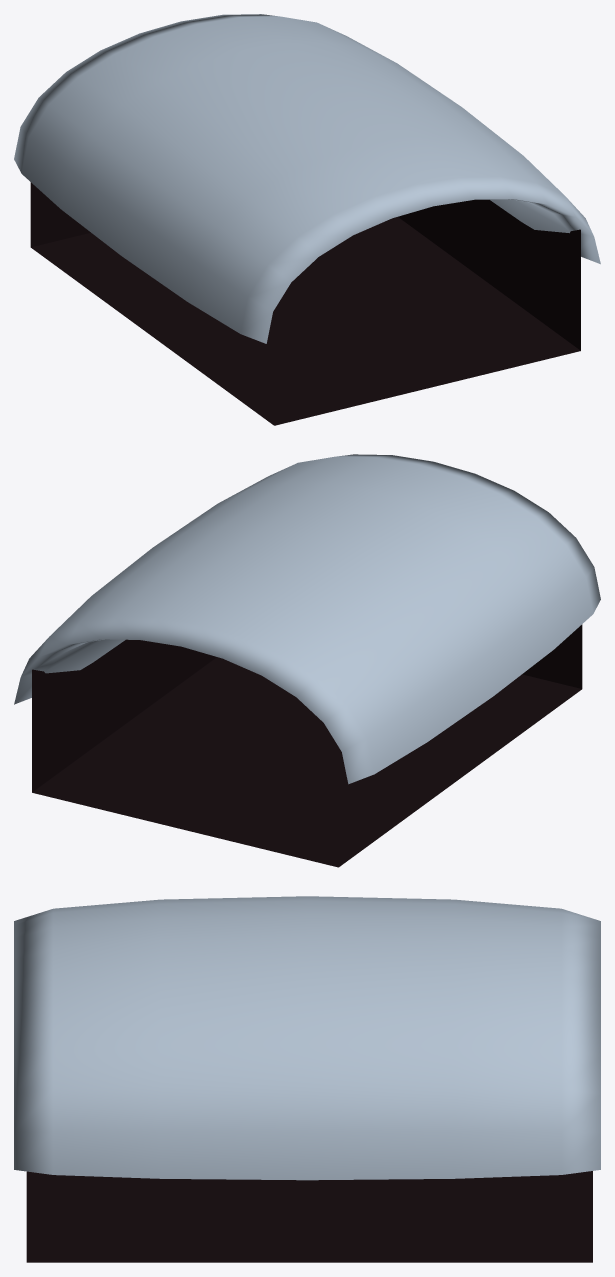
Rendered from SmallWreck.glb.
3 views of the same model, one above another, from view 1: azimuth 30°, elevation 25°; view 2: azimuth 150°, elevation 25°; view 3: azimuth 270°, elevation 25° (orthographic). The views are drawn at different scales.
Visible parts, largest first — view 1: OuterPart; view 2: OuterPart; view 3: OuterPart.
Part boxes in pixels (bbox=[...]): OuterPart: bbox=[14, 14, 600, 425]; OuterPart: bbox=[14, 454, 600, 867]; OuterPart: bbox=[14, 896, 600, 1262].
Size of the model in its own units: 4.62 by 2.44 by 5.44.
